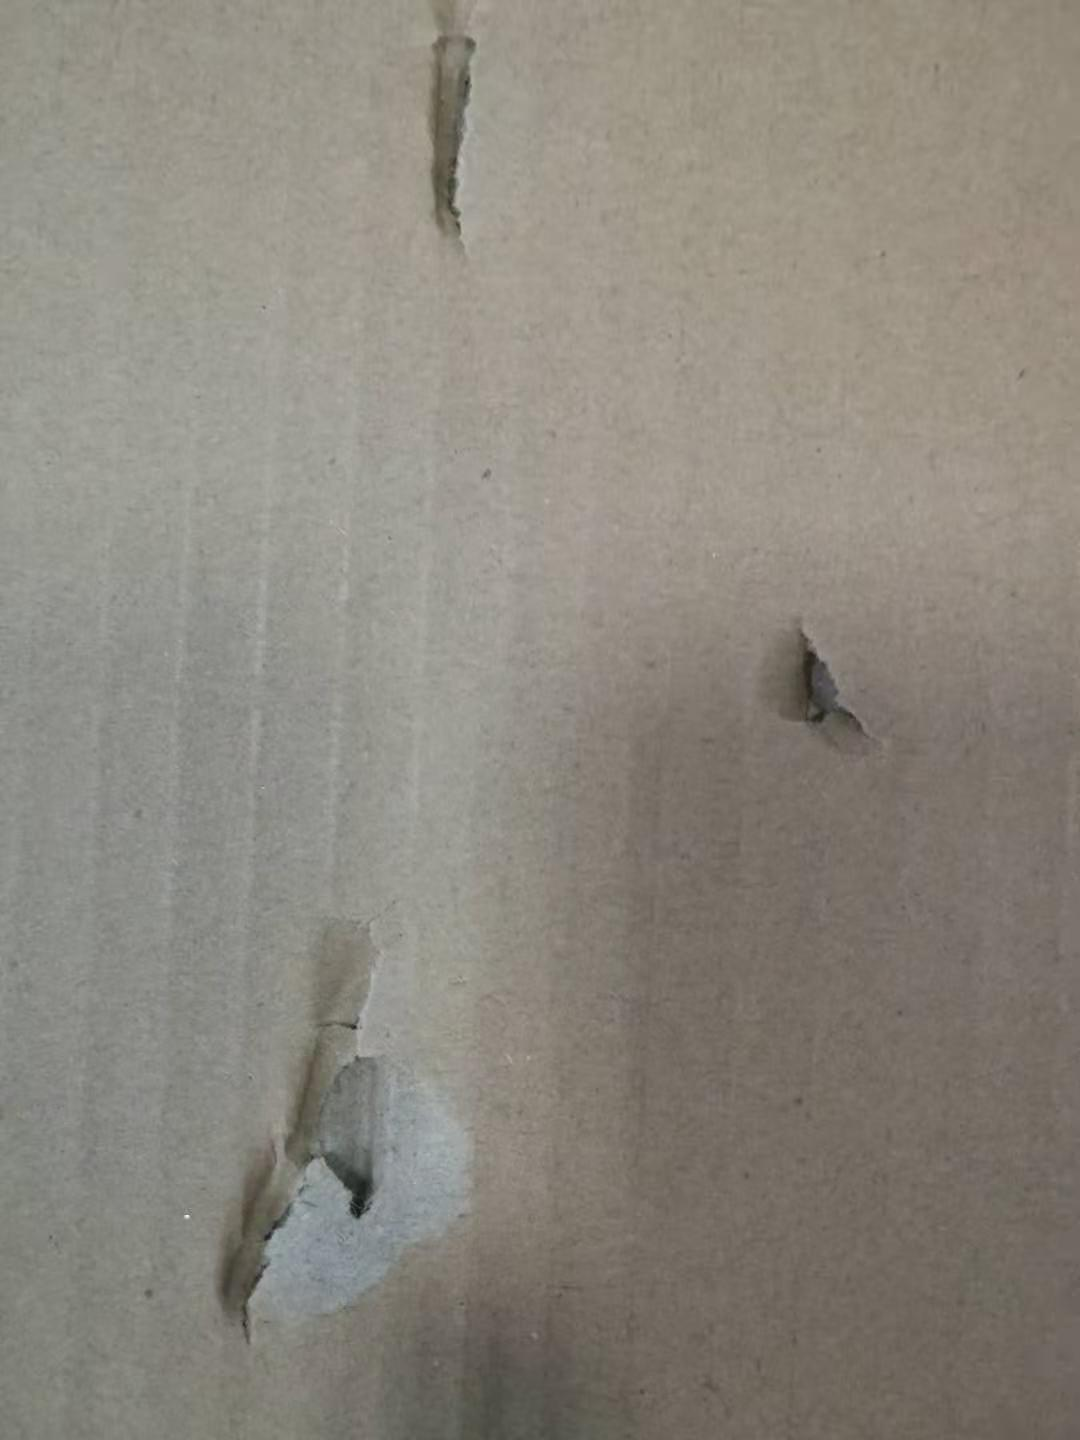defect: (168, 872, 529, 1379), (372, 1, 537, 283), (732, 588, 905, 781)
